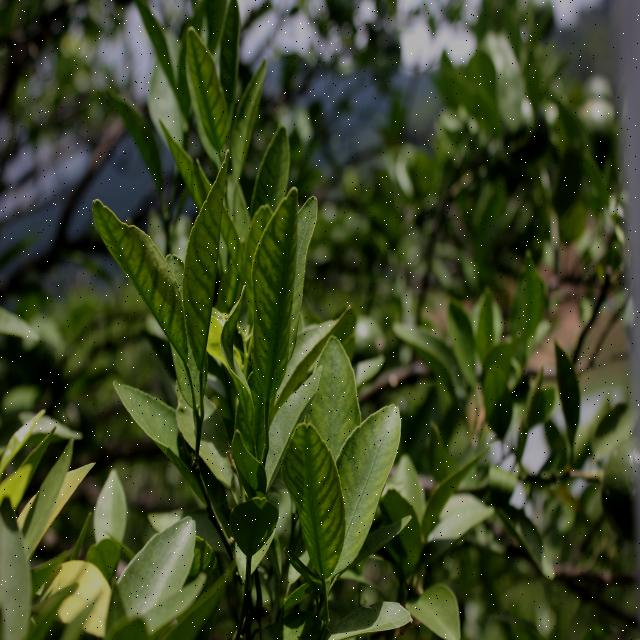greening: (93, 200, 183, 348), (183, 148, 229, 377), (284, 424, 350, 583), (250, 188, 302, 384), (185, 20, 229, 148)
